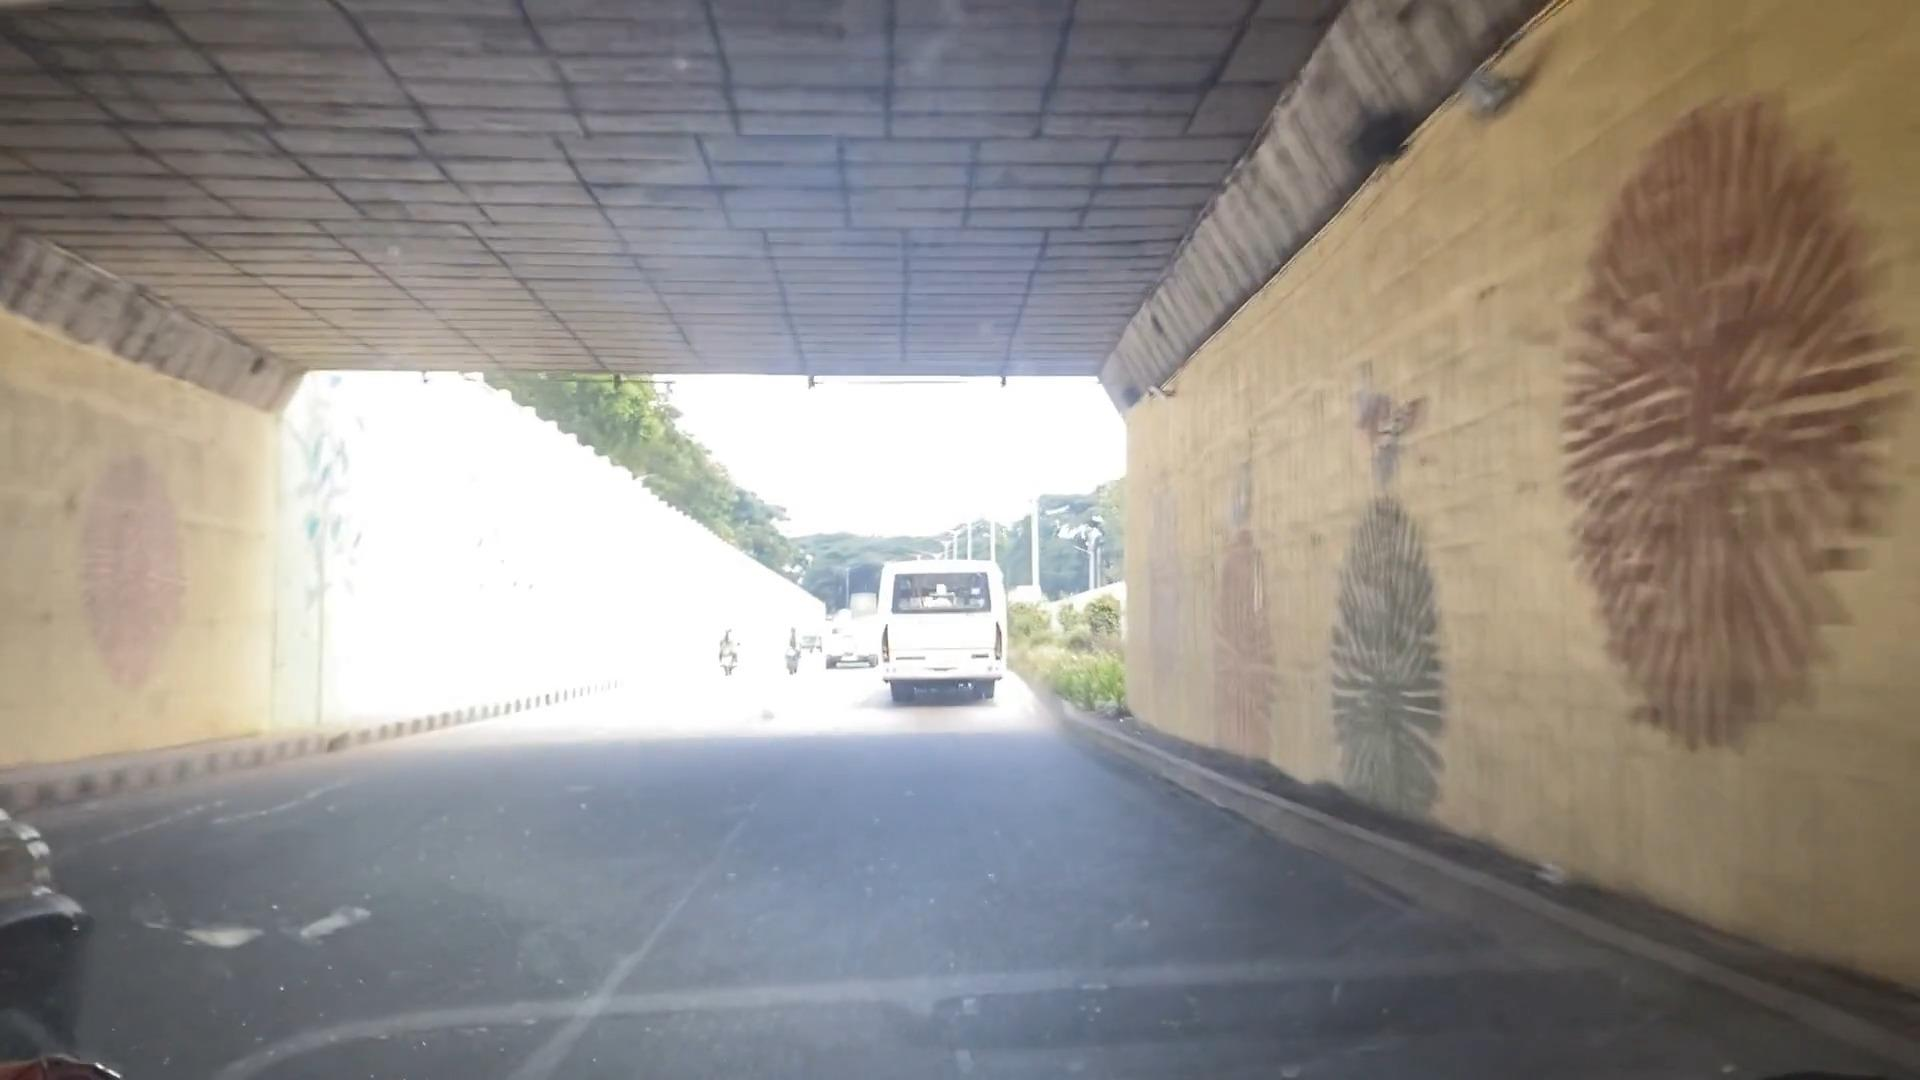HMV: (886, 562, 998, 692)
RoadDamages: (657, 758, 799, 953)
